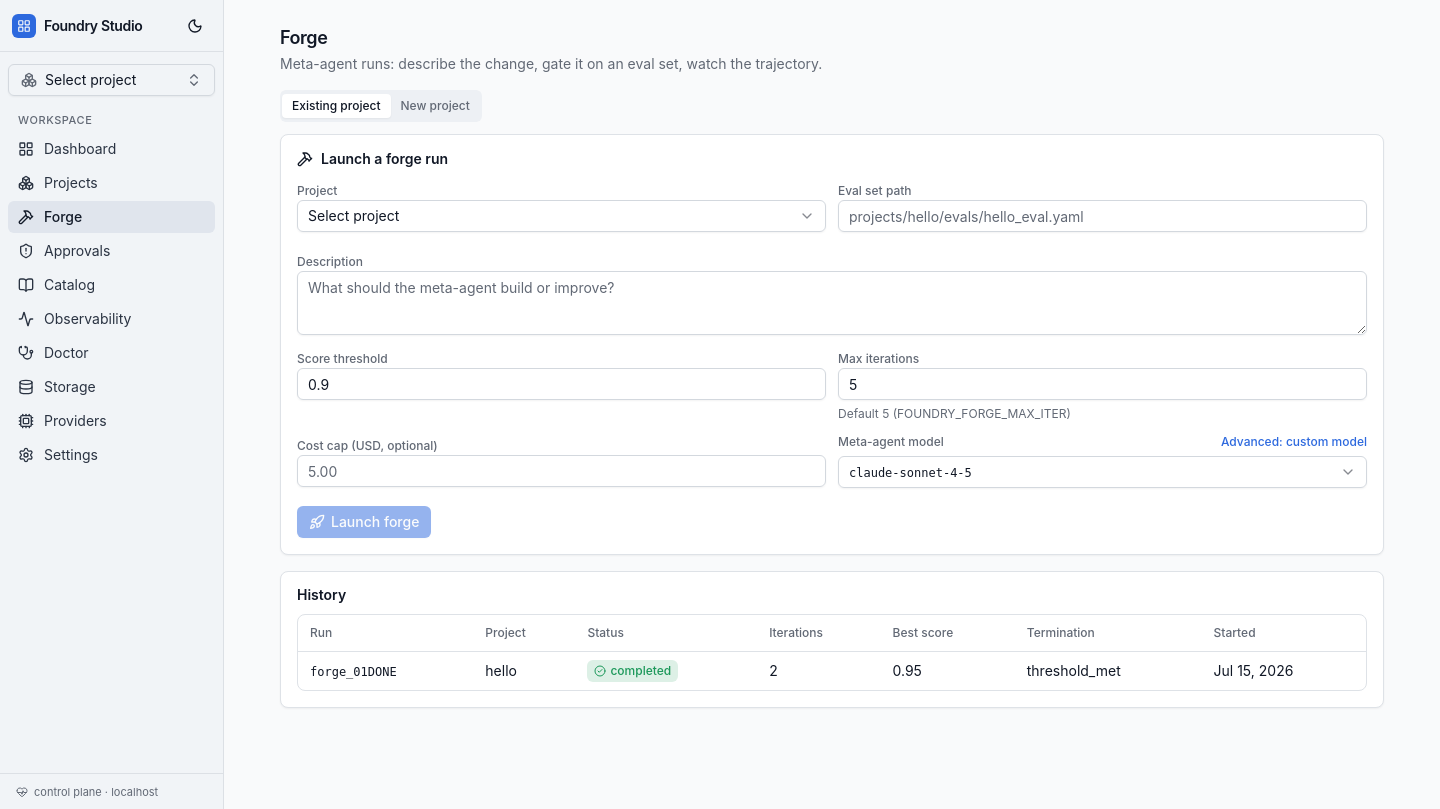
Test case: forge console › offers 'watch the active run' on a 409 concurrent-launch conflict
Step 1. Click the dropdown labelled "project" → x=354, y=216, box [297,200,826,232]
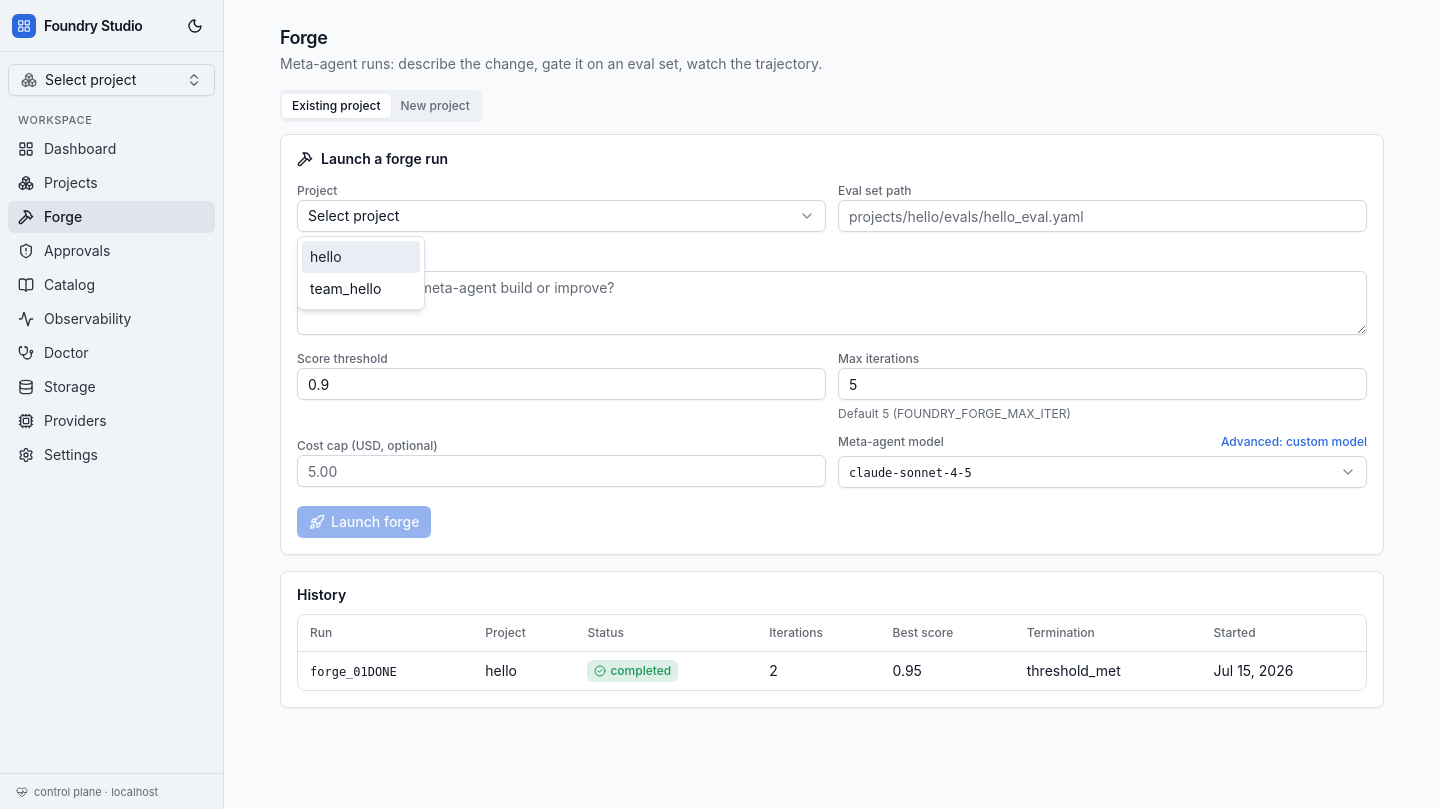
Step 2. Click the option "hello" → x=361, y=257, box [302,241,420,273]
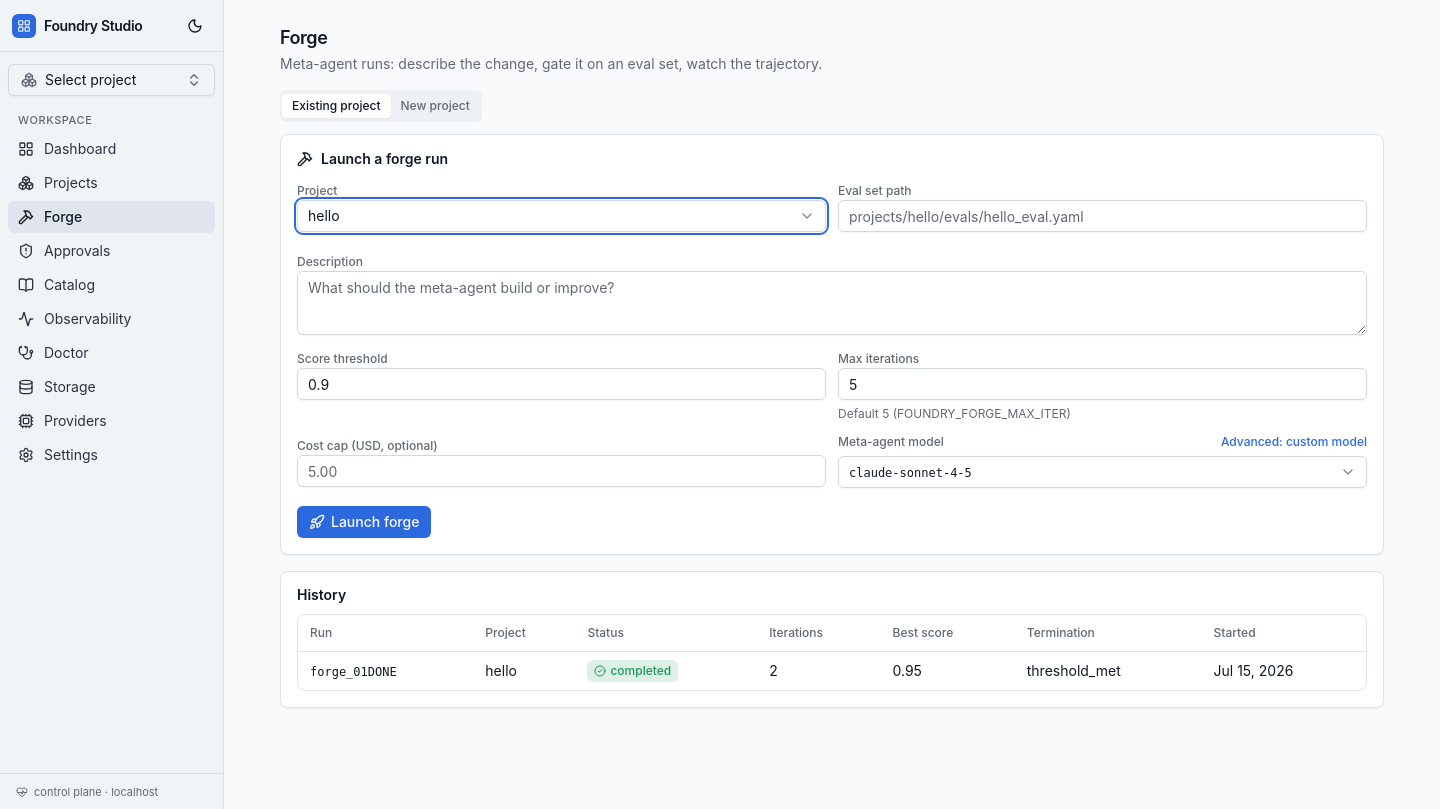
Step 3. Type "evals/e.yaml" into the field labelled "Eval set path" → x=1102, y=216, box [838,200,1367,232]
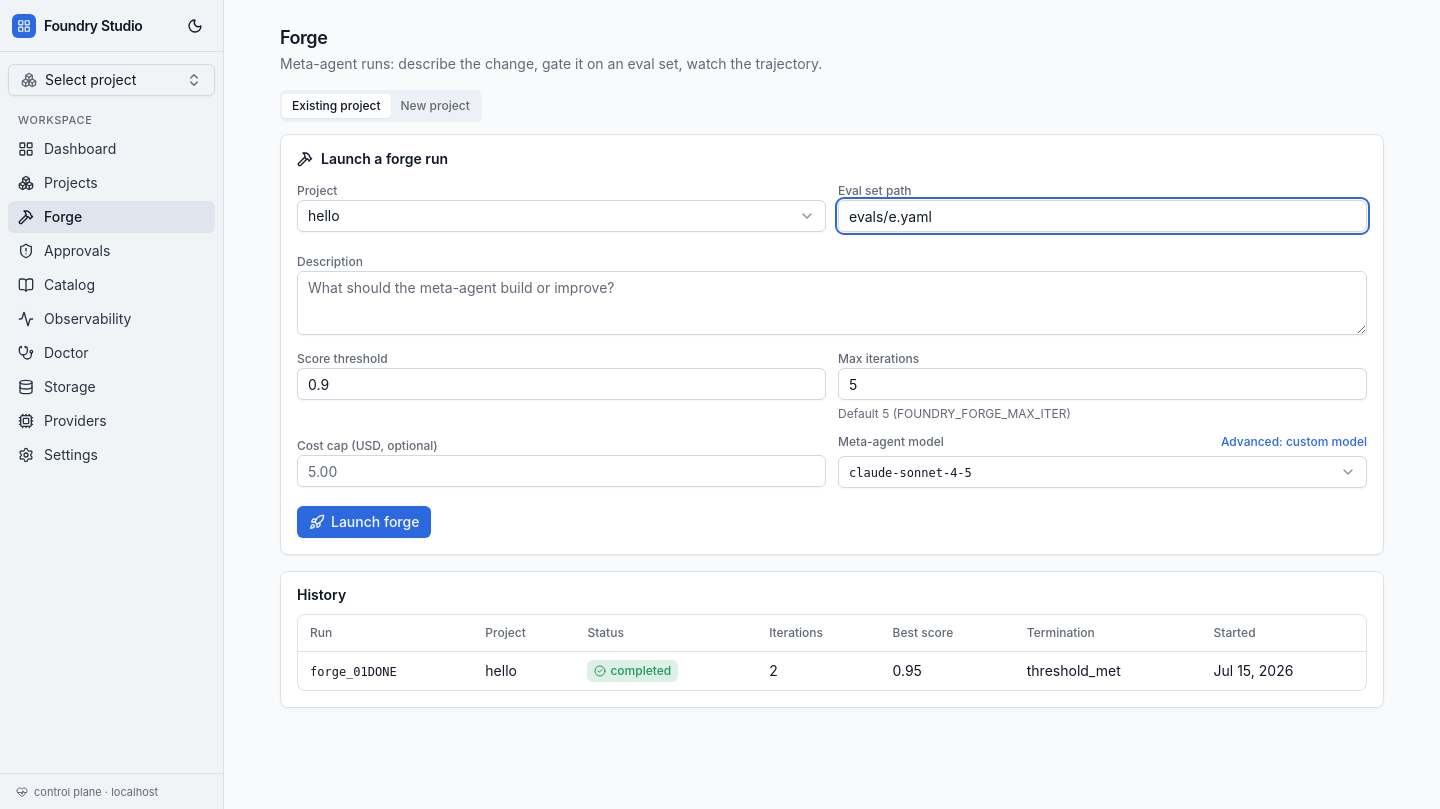
Step 4. Type "x" into the text box labelled "Description" → x=832, y=303, box [297,271,1367,335]
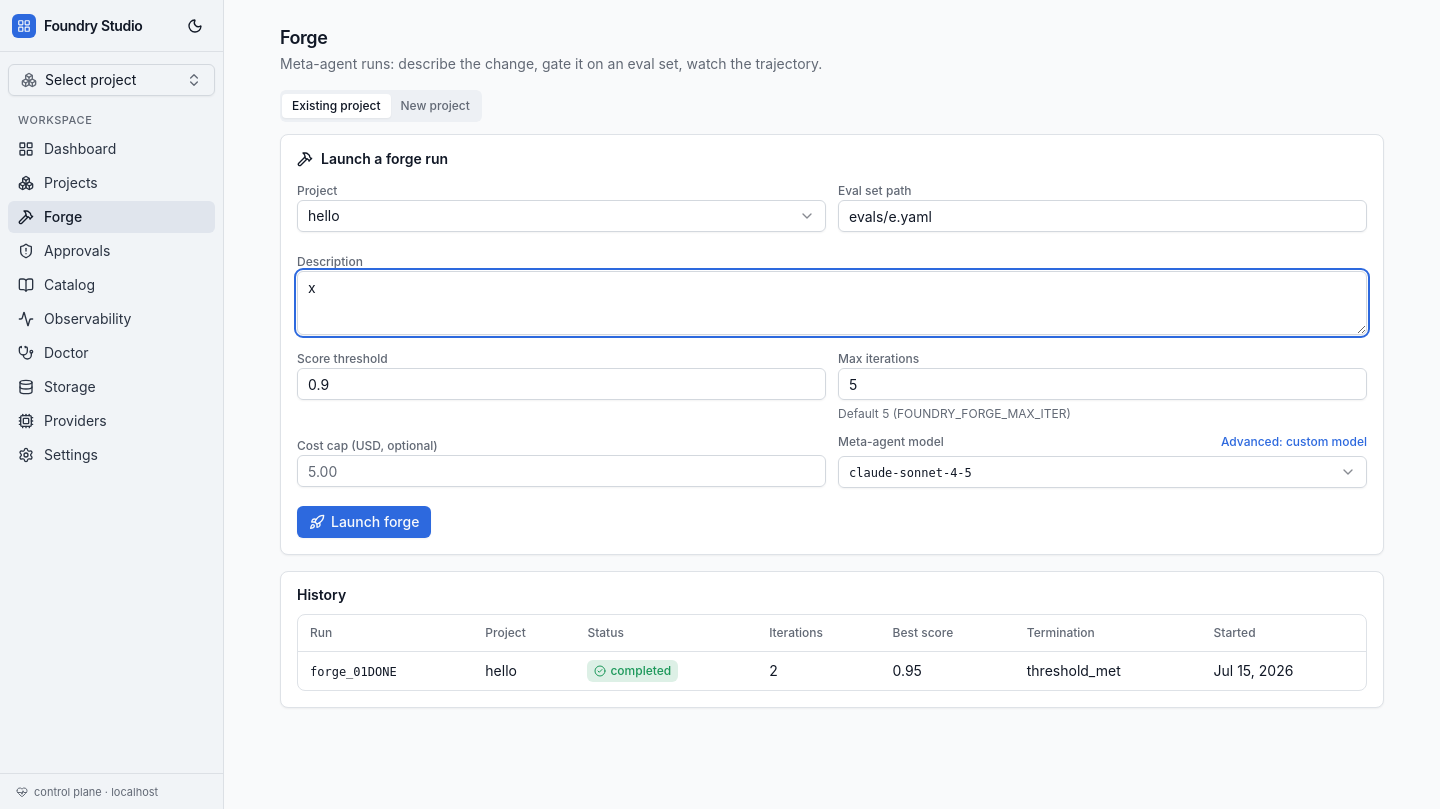
Step 5. Click the button "Launch forge" → x=364, y=522, box [297,506,431,538]
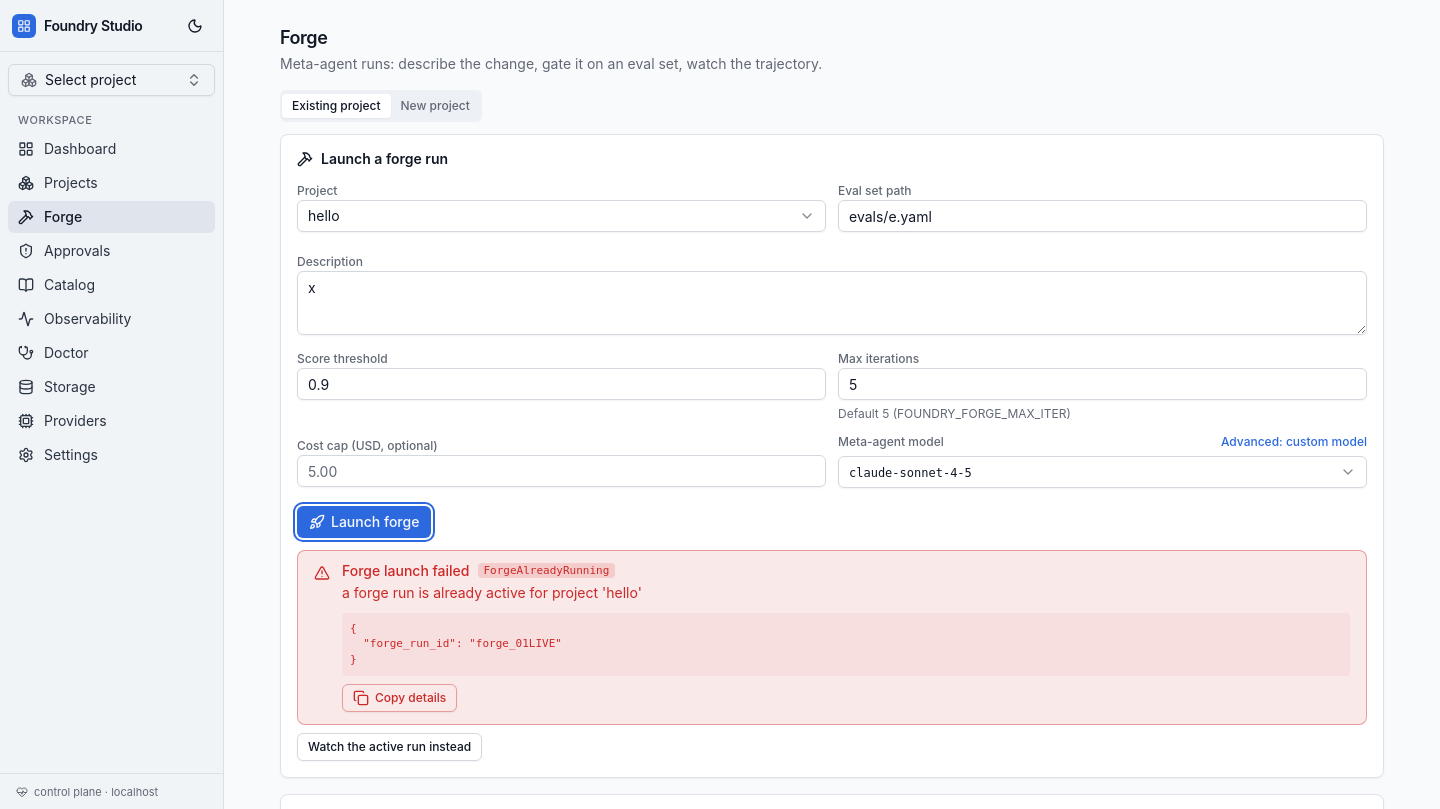
Expected: the text "ForgeAlreadyRunning" is shown, [478,563,615,578]
